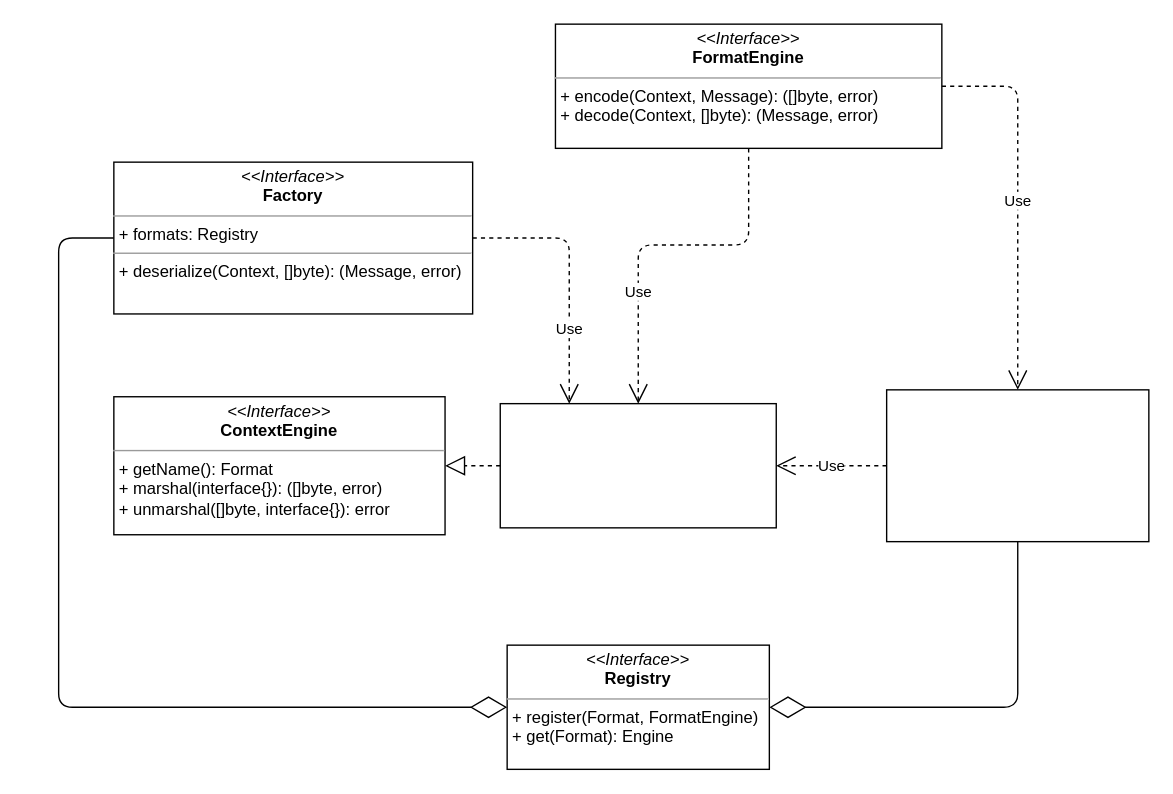
This 1173x794 diagram has some shape labels left out. Here are the shapes that lost their labels. From the top down, the centre of each, then its label:
At [637,465]: "Context + factories: map[interface{}]Factory + getFactory(struct{}): Factory".
At [1017,465]: "<<Interface>> Message + formats: Registry + serialize(Context): ([]byte, error)".
